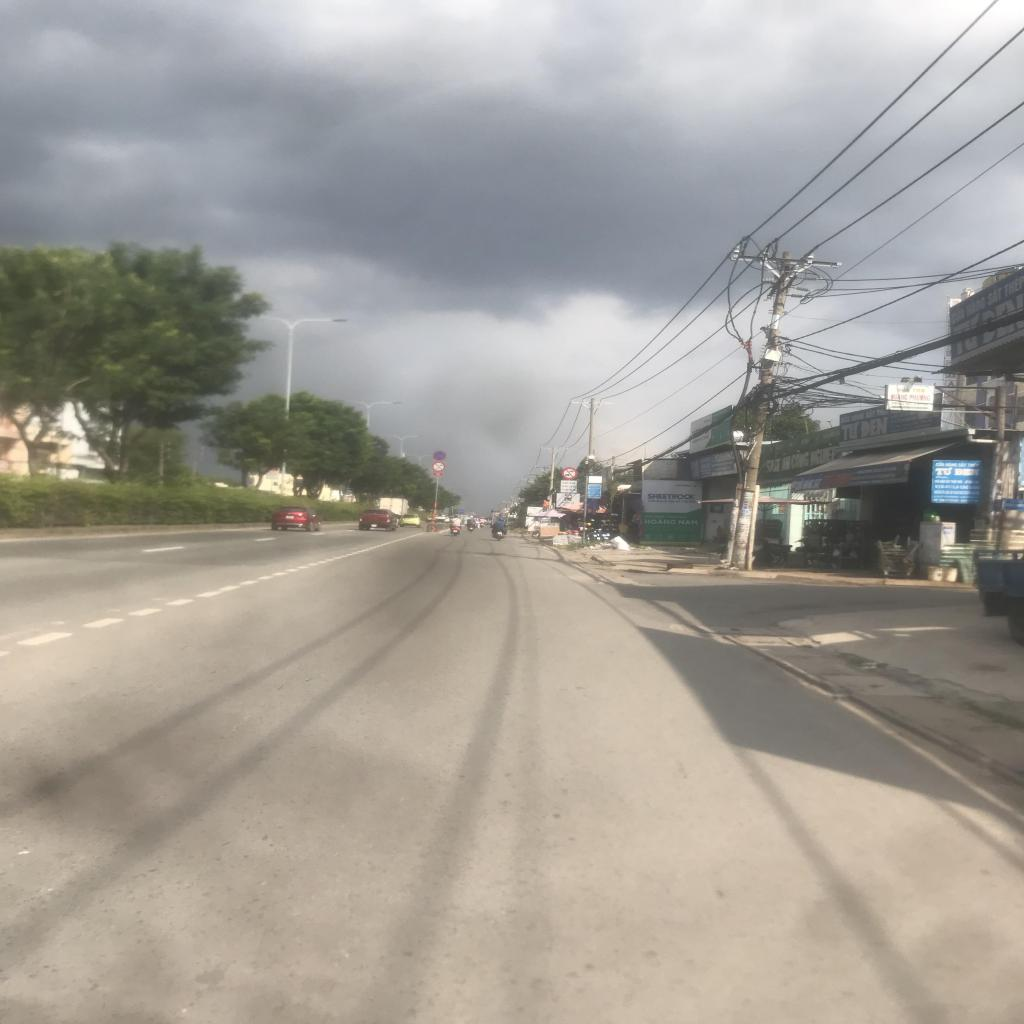cam_dung_xe_va_do_xe: (433, 450, 447, 460)
cam_o_to_tai_va_xe_khach: (561, 467, 578, 480)
cam_xe_2_banh_va_xe_3_banh_co_dong_co: (431, 462, 445, 472)
khac: (556, 493, 580, 507), (560, 480, 577, 493)
